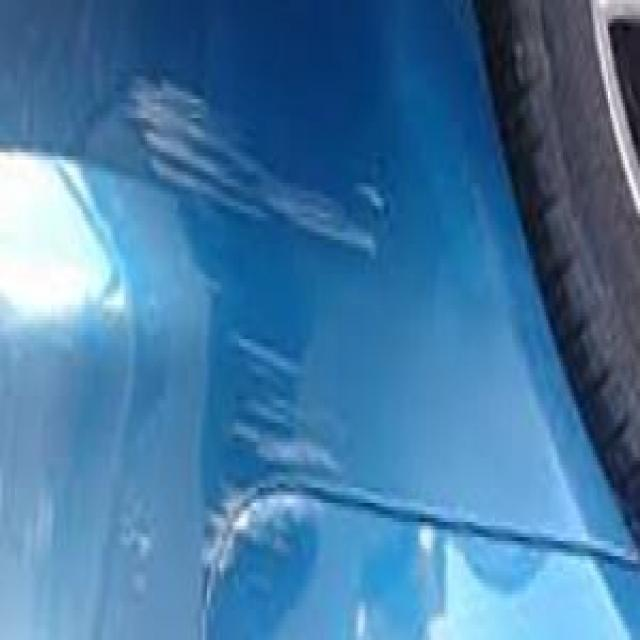scratch: (94, 26, 395, 640)
